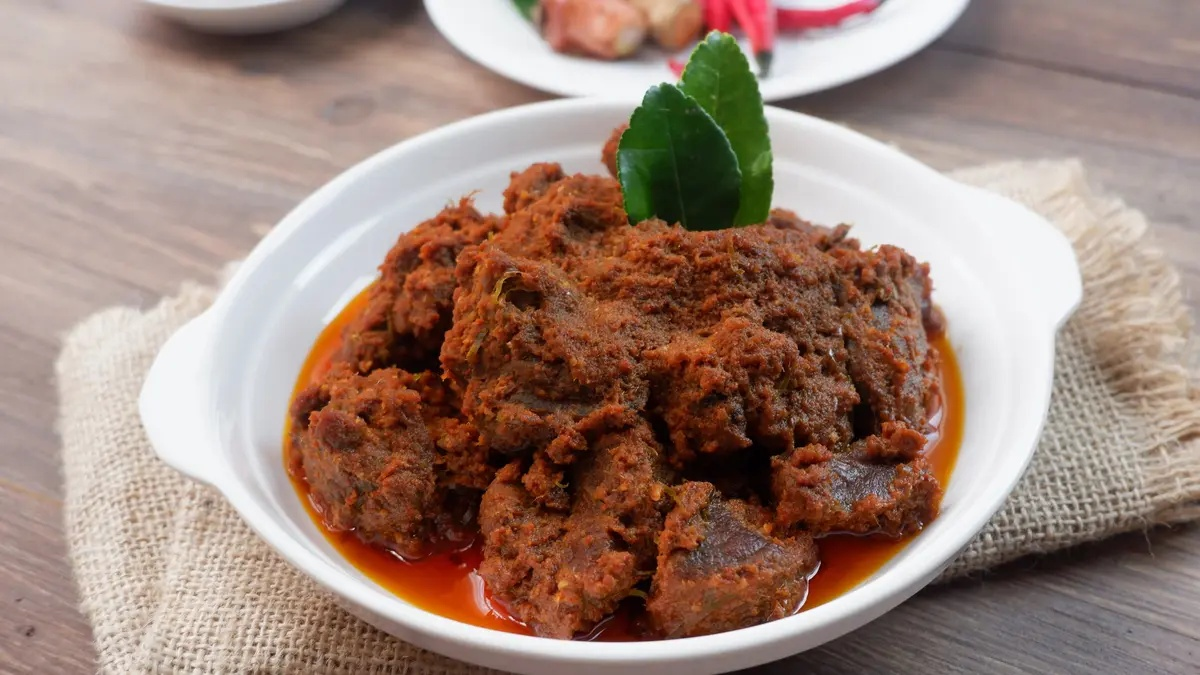rendang: (290, 188, 938, 633)
